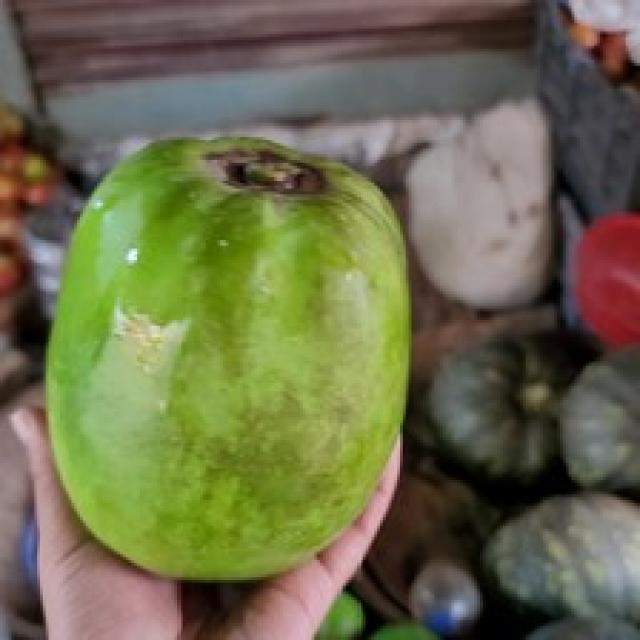Pepaya unrippen: (45, 128, 416, 586)
